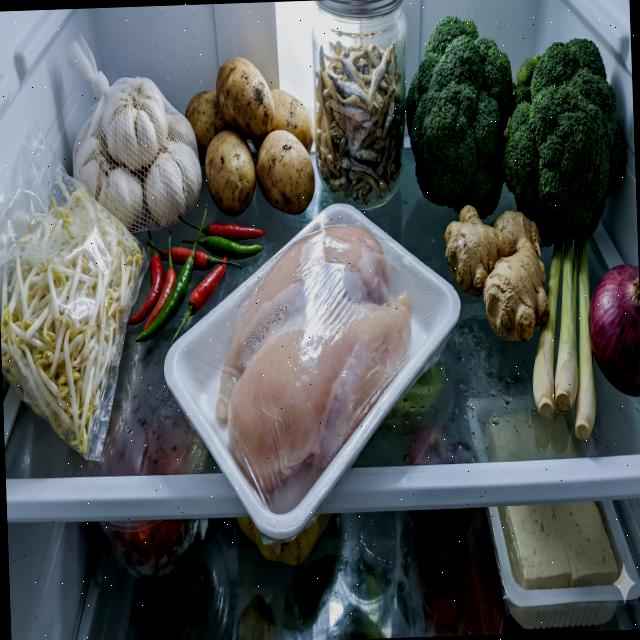anchovies: (311, 38, 409, 208)
bean_sprouts: (0, 171, 149, 457)
brocolli: (402, 10, 630, 252)
chicken: (208, 223, 418, 497)
chili: (123, 202, 270, 346)
garlic: (68, 74, 204, 231)
ginger: (443, 202, 551, 346)
lemongrass: (528, 239, 598, 441)
onion: (585, 263, 640, 399)
potato: (182, 54, 316, 220)
tofu: (498, 499, 619, 592)
